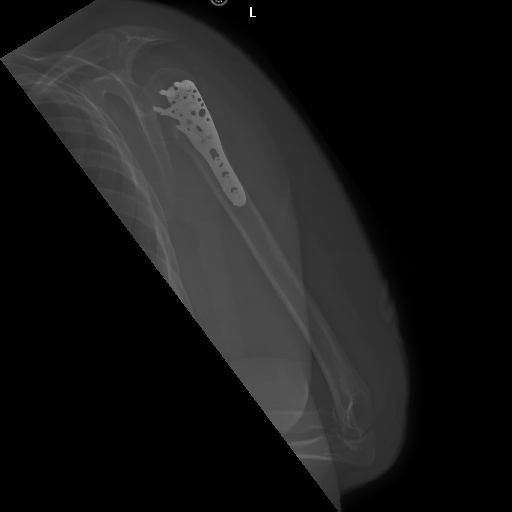implant: (157, 77, 248, 206)
